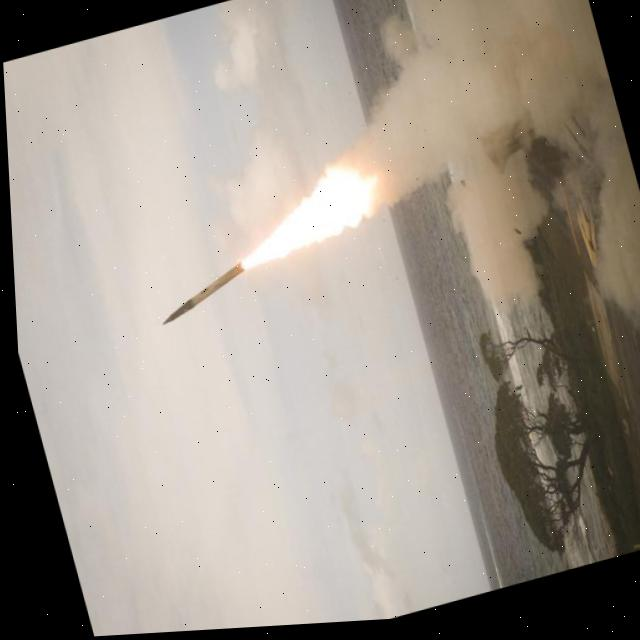missile: (142, 240, 266, 333)
